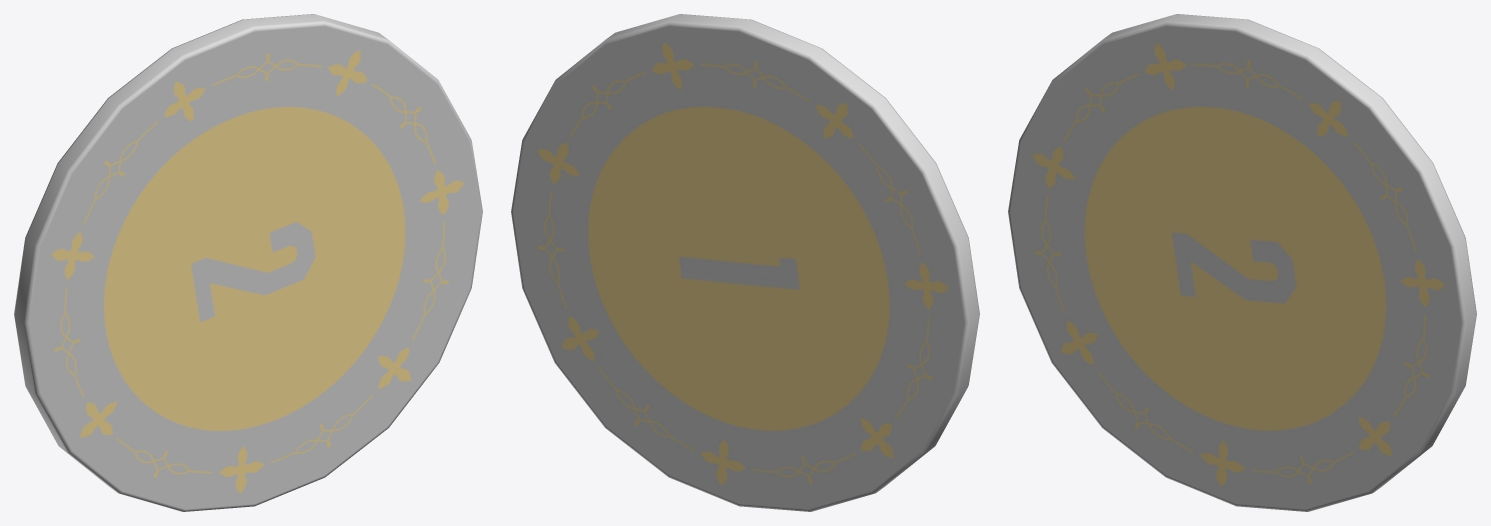
File: dicemodel_d2.gltf
The picture shows the model from 3 angles, left to right: view 1: azimuth 30°, elevation 25°; view 2: azimuth 150°, elevation 25°; view 3: azimuth 330°, elevation 25°; orthographic projection.
Visible parts, largest first — view 1: dicemodel_d2; view 2: dicemodel_d2; view 3: dicemodel_d2.
Boxes of the visible parts, <box> form: dicemodel_d2: <box>14,14,482,511</box>; dicemodel_d2: <box>511,14,979,511</box>; dicemodel_d2: <box>1008,14,1476,511</box>.
Size of the model in its own units: 180 by 180 by 9.04.
Materials: 1 (1 with a texture image).
